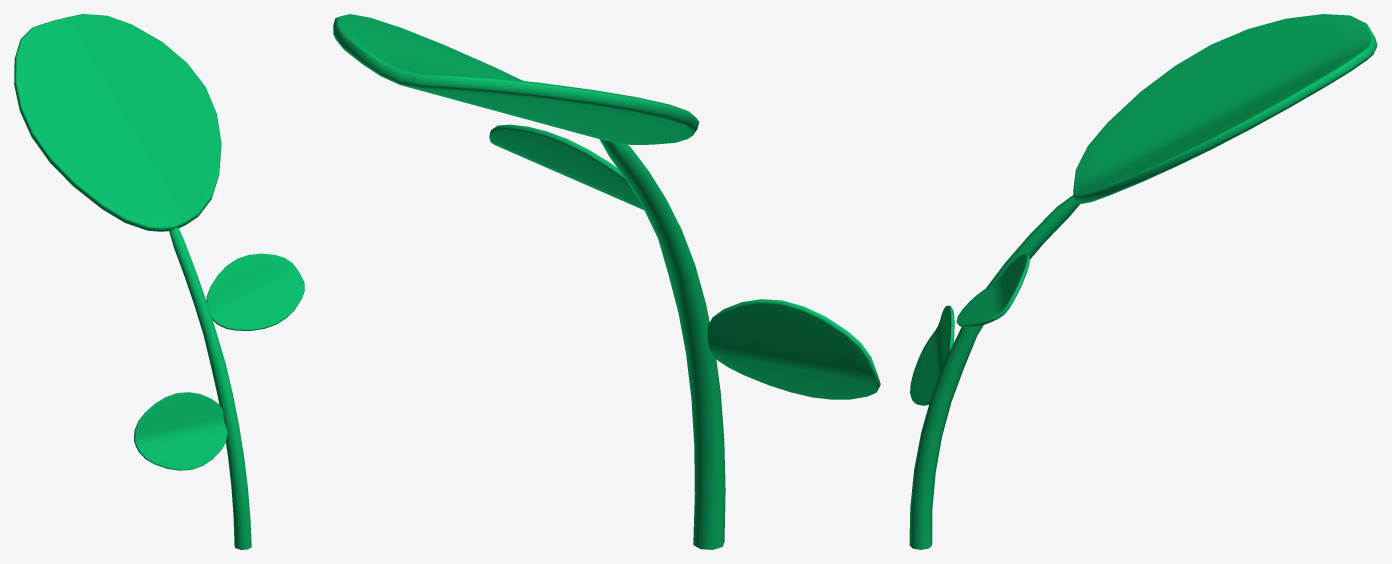
Rendered from Farm_11_Plant_1.glb.
3 views of the same model, side by side, from view 1: azimuth 30°, elevation 25°; view 2: azimuth 150°, elevation 25°; view 3: azimuth 270°, elevation 25° (orthographic). The views are drawn at different scales.
Parts seen in each view (by area): view 1: Farm_11_Plant_1; view 2: Farm_11_Plant_1; view 3: Farm_11_Plant_1.
Boxes of the visible parts, box(x1,y1,x2,y2) form: Farm_11_Plant_1: box(14, 14, 304, 549); Farm_11_Plant_1: box(333, 14, 880, 549); Farm_11_Plant_1: box(909, 14, 1377, 549).
Bounding box in the file's own units: 0.5801 × 1.16 × 0.9799.
Materials: 1 (1 with a texture image).
